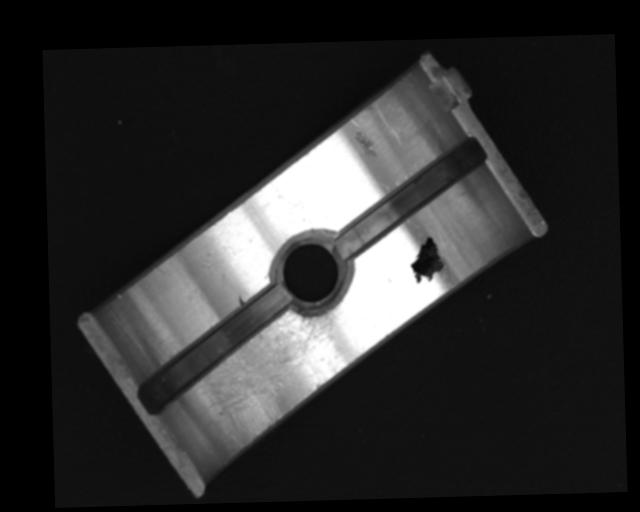blot: (409, 234, 446, 284)
bruise: (353, 130, 381, 161), (237, 294, 246, 306)
gap: (135, 284, 294, 412), (336, 138, 488, 256)
hole: (273, 234, 352, 312)
scratch: (197, 302, 343, 434)
